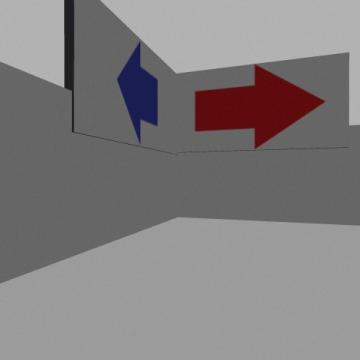blue_left: (117, 42, 158, 142)
red_right: (195, 65, 324, 148)
